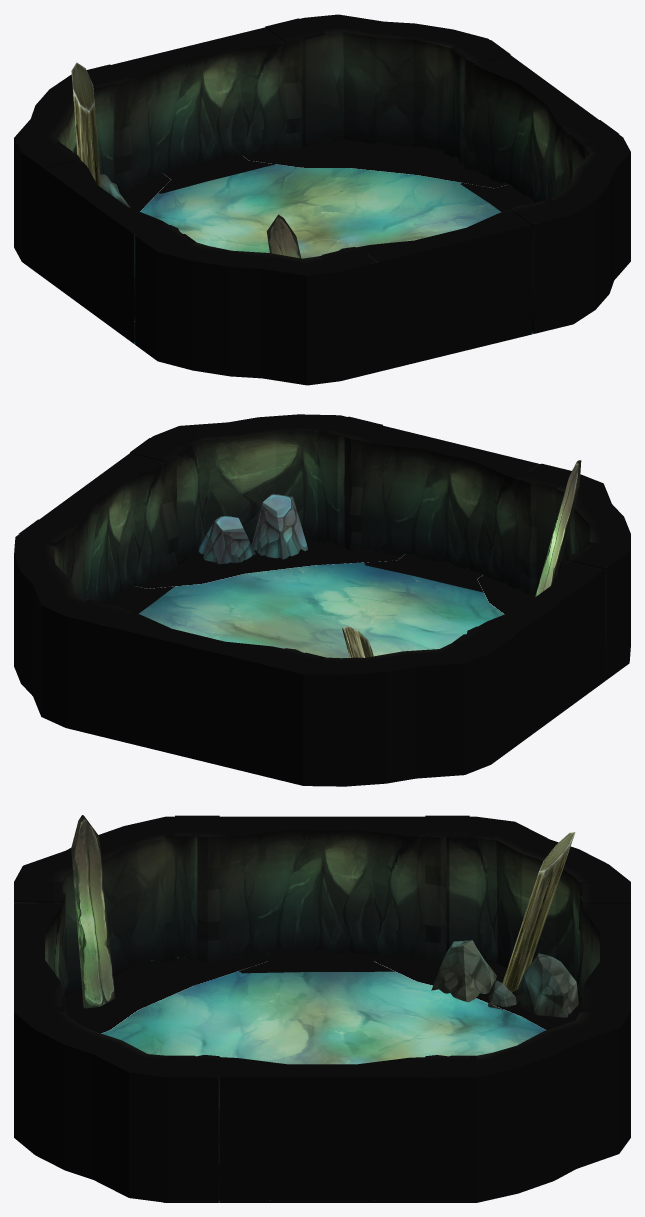
Rendered from Dungeon_073_SpecialRoom_001.fbx.
3 views of the same model, one above another, from view 1: azimuth 30°, elevation 25°; view 2: azimuth 150°, elevation 25°; view 3: azimuth 270°, elevation 25° (orthographic). The views are drawn at different scales.
Visible parts, largest first — view 1: Dun_073_Door_002 (×4), Dun_073_StartRoom_001_wall, Dun_073_StartRoom_001_ground, Dun_073_StartRoom_001_shadow, Dun_073_OB_Rubble, Dun_073_Door_002_shadow (×2); view 2: Dun_073_Door_002 (×4), Dun_073_StartRoom_001_wall, Dun_073_StartRoom_001_ground, Dun_073_StartRoom_001_shadow, Dun_073_OB_Stone01, Dun_073_Door_002_shadow (×2), Dun_073_OB_Rubble; view 3: Dun_073_StartRoom_001_wall, Dun_073_Door_002 (×4), Dun_073_StartRoom_001_ground, Dun_073_OB_Rubble, Dun_073_StartRoom_001_shadow, Dun_073_OB_Stone01, Dun_073_Door_002_shadow.
Boxes of the visible parts, x1,y1,x2,y2 form: Dun_073_Door_002 (×4): [25, 18, 618, 371]; Dun_073_StartRoom_001_wall: [14, 14, 630, 385]; Dun_073_StartRoom_001_ground: [134, 164, 534, 344]; Dun_073_StartRoom_001_shadow: [119, 139, 533, 342]; Dun_073_OB_Rubble: [71, 62, 300, 258]; Dun_073_Door_002_shadow (×2): [158, 155, 534, 211]; Dun_073_Door_002 (×4): [19, 416, 624, 776]; Dun_073_StartRoom_001_wall: [14, 414, 630, 786]; Dun_073_StartRoom_001_ground: [139, 562, 606, 680]; Dun_073_StartRoom_001_shadow: [136, 539, 605, 678]; Dun_073_OB_Stone01: [198, 493, 308, 564]; Dun_073_Door_002_shadow (×2): [104, 554, 483, 613]; Dun_073_OB_Rubble: [342, 460, 581, 657]; Dun_073_StartRoom_001_wall: [14, 816, 630, 1202]; Dun_073_Door_002 (×4): [14, 815, 630, 1202]; Dun_073_StartRoom_001_ground: [102, 957, 545, 1202]; Dun_073_OB_Rubble: [71, 815, 575, 1008]; Dun_073_StartRoom_001_shadow: [65, 953, 579, 1200]; Dun_073_OB_Stone01: [431, 940, 578, 1017]; Dun_073_Door_002_shadow: [239, 949, 394, 973].
Size of what is drawn, in the model's own units: 9 by 2.89 by 9.
